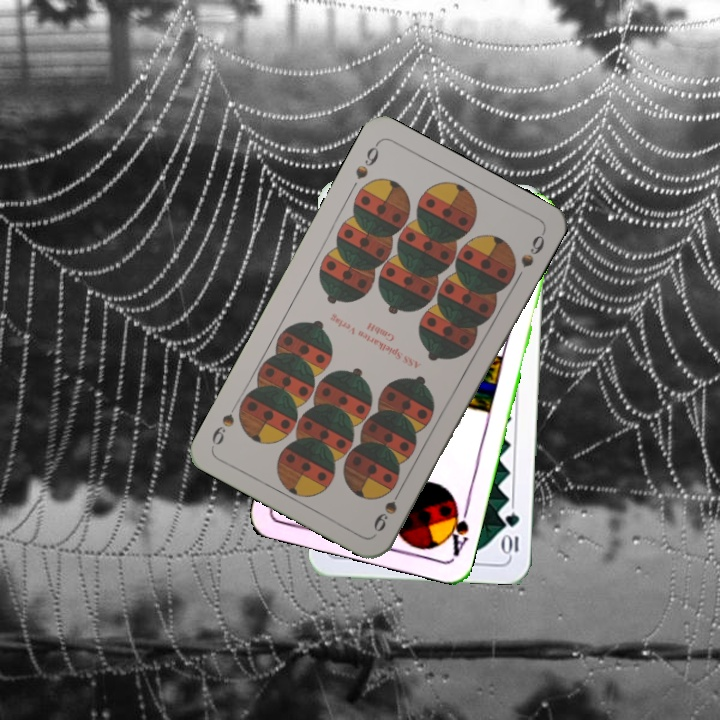G10: (501, 508, 522, 558)
S9: (369, 481, 406, 535), (351, 138, 382, 182)
SA: (441, 497, 472, 559)
